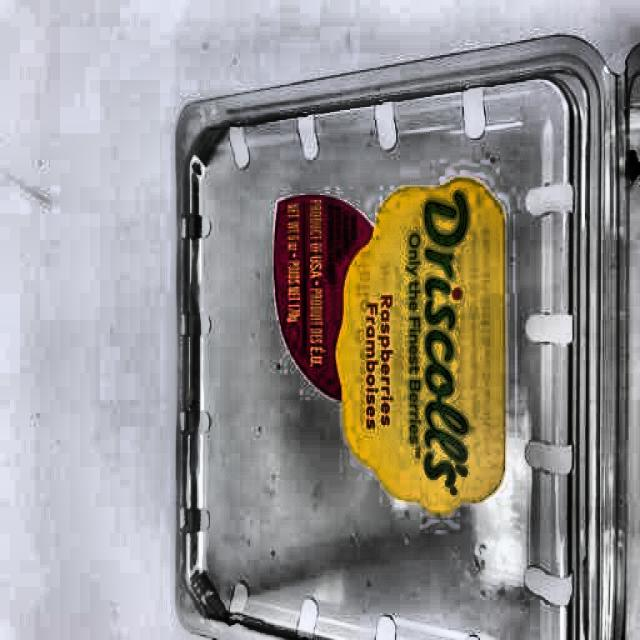plastic: (166, 38, 639, 640)
